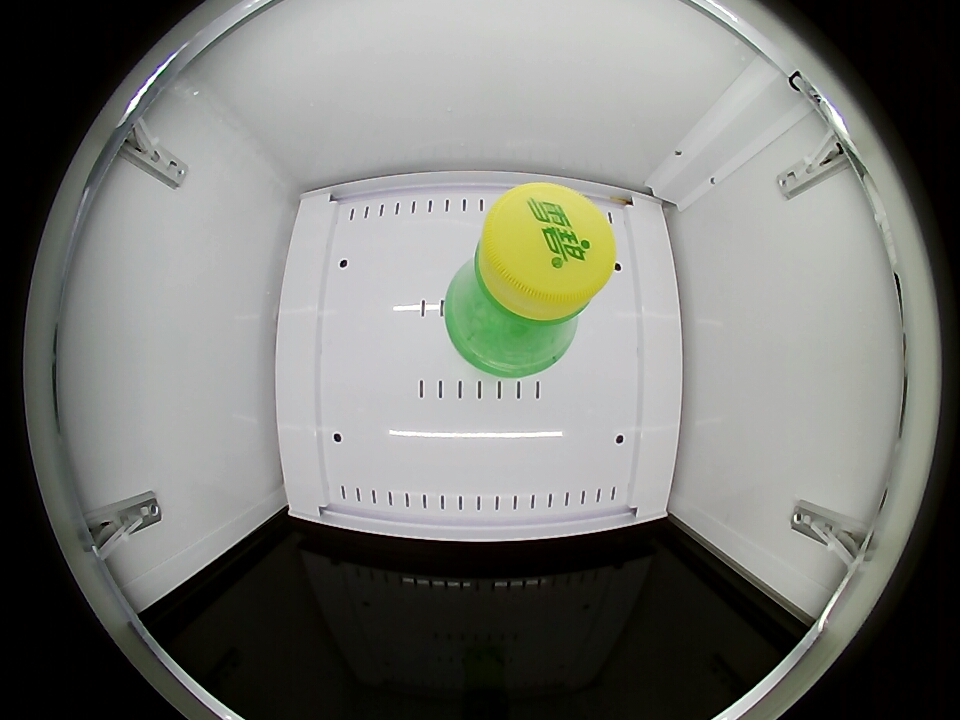xuebi-b: (450, 183, 617, 368)
